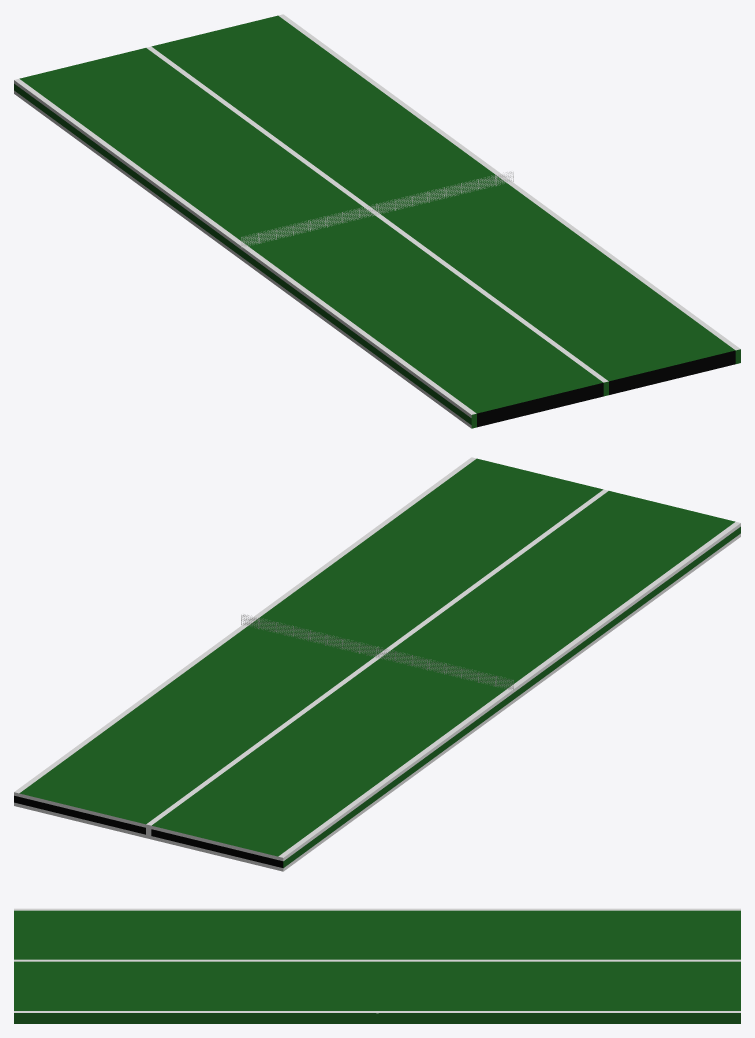
File: pingpongtable.fbx
The picture shows the model from 3 angles, top to bottom: view 1: azimuth 30°, elevation 25°; view 2: azimuth 150°, elevation 25°; view 3: azimuth 270°, elevation 25°; orthographic projection. The views are drawn at different scales.
Parts seen in each view (by area): view 1: Cube.002, Cube; view 2: Cube.002, Cube; view 3: Cube.002.
Part boxes in pixels (x1=…): Cube.002: x1=14, y1=14, x2=740, y2=428; Cube: x1=241, y1=171, x2=513, y2=247; Cube.002: x1=14, y1=457, x2=740, y2=871; Cube: x1=241, y1=614, x2=513, y2=690; Cube.002: x1=14, y1=908, x2=740, y2=1023.
Bounding box in the file's own units: 1028 × 87.16 × 3000.
